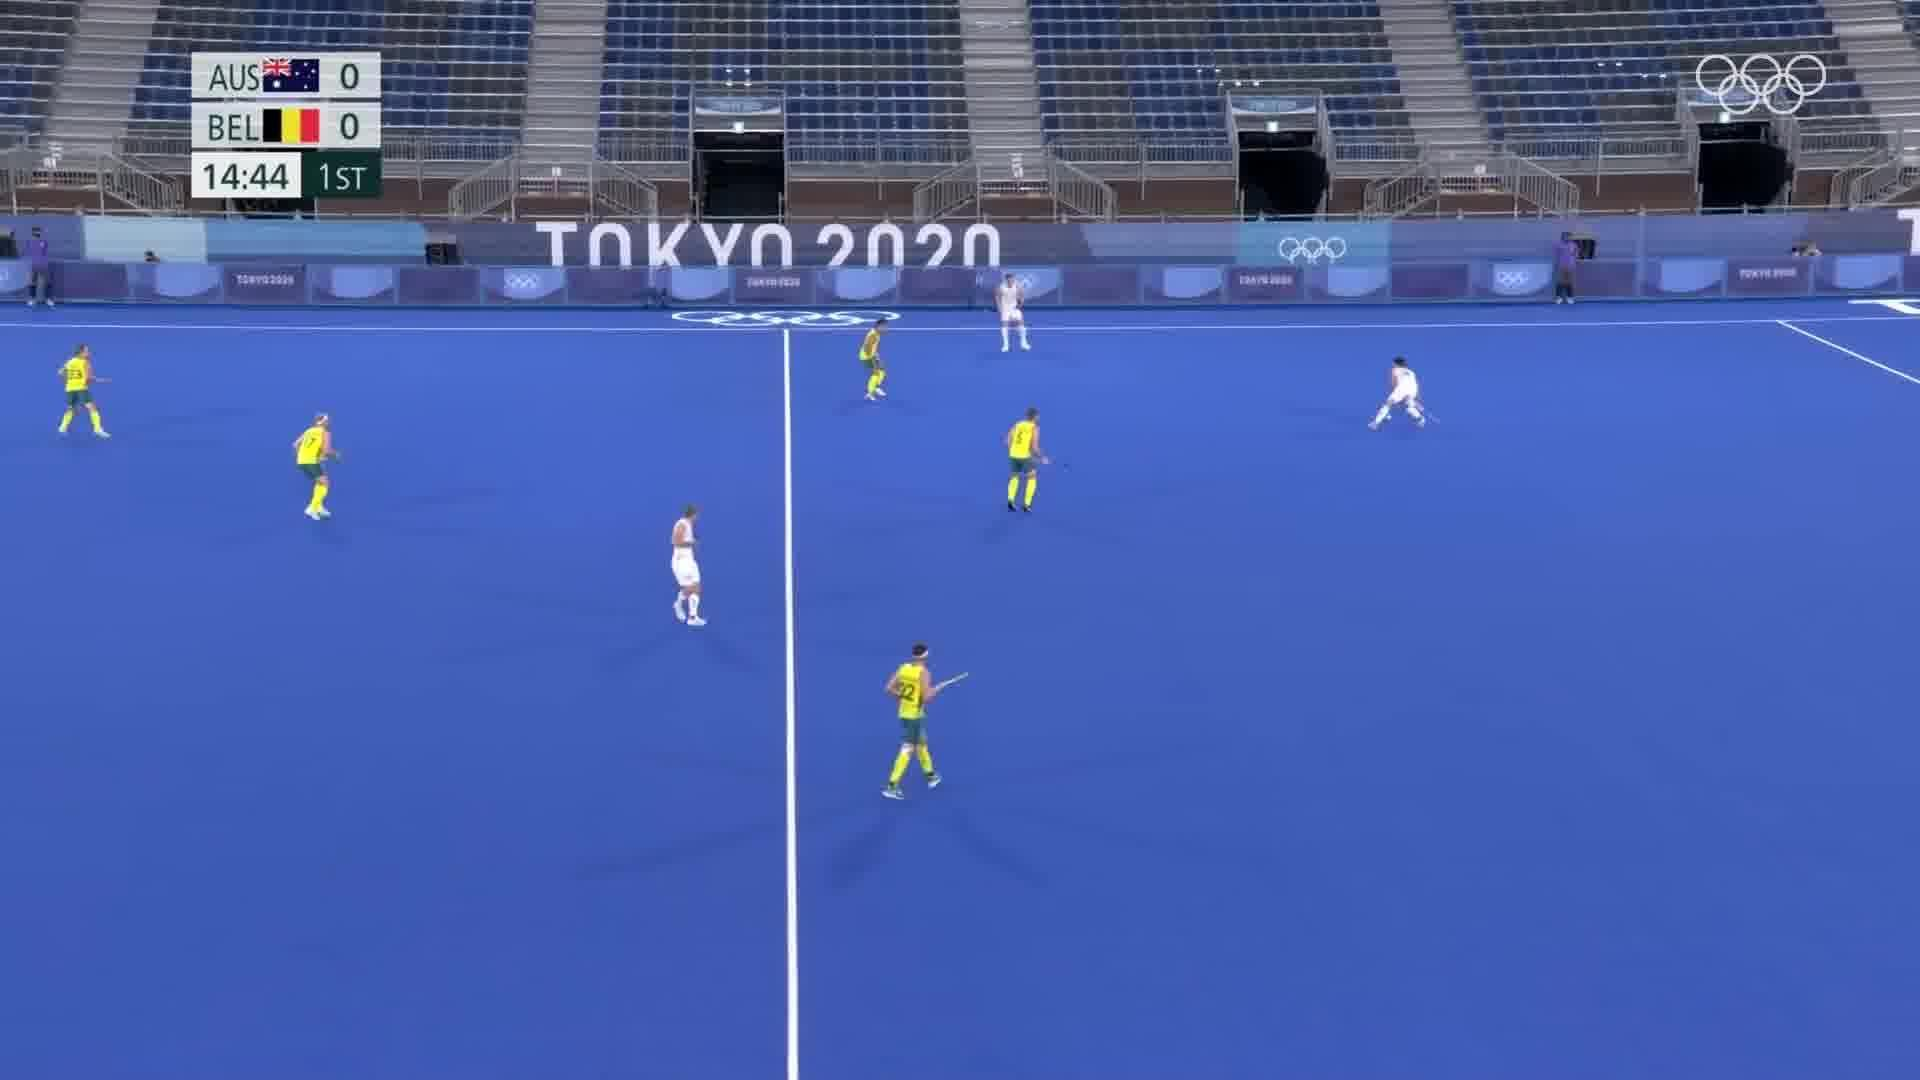ball: (1385, 411, 1407, 427)
